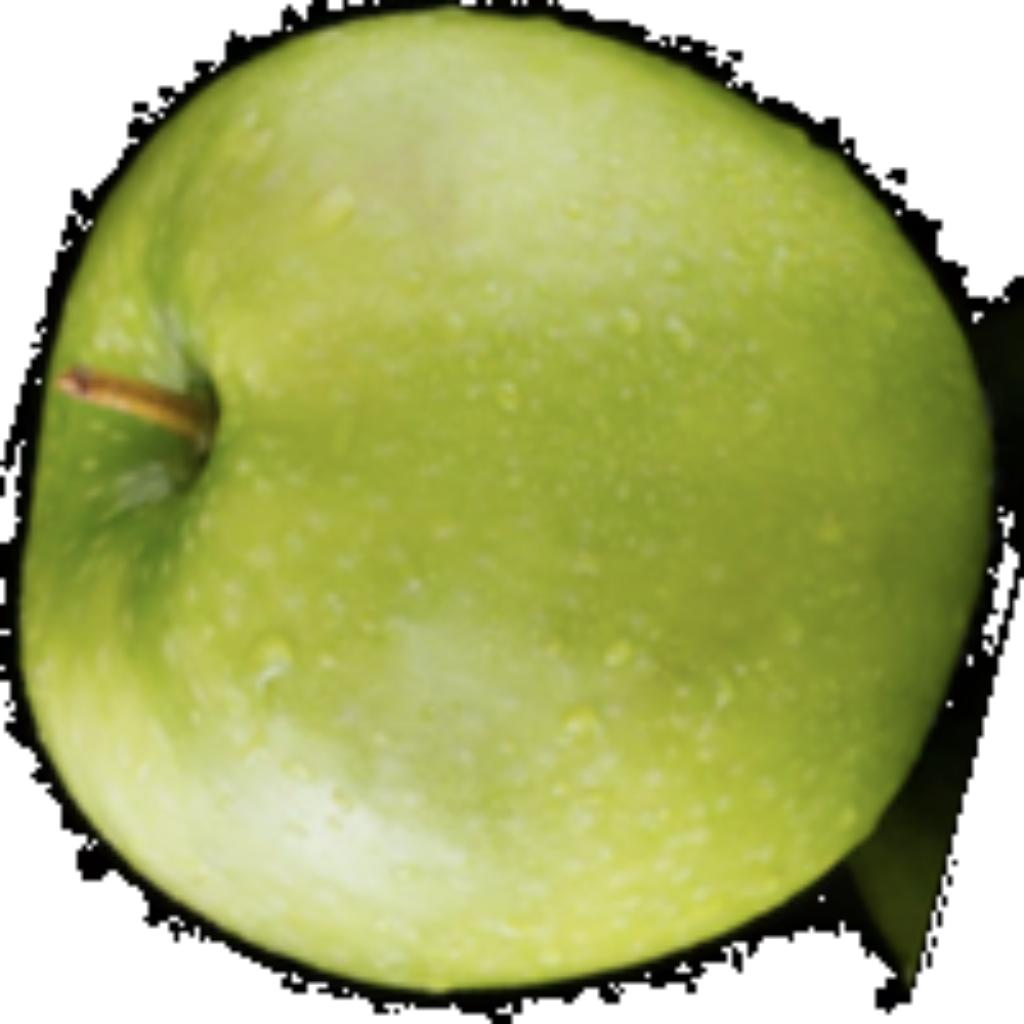apple: (0, 0, 1019, 1019)
